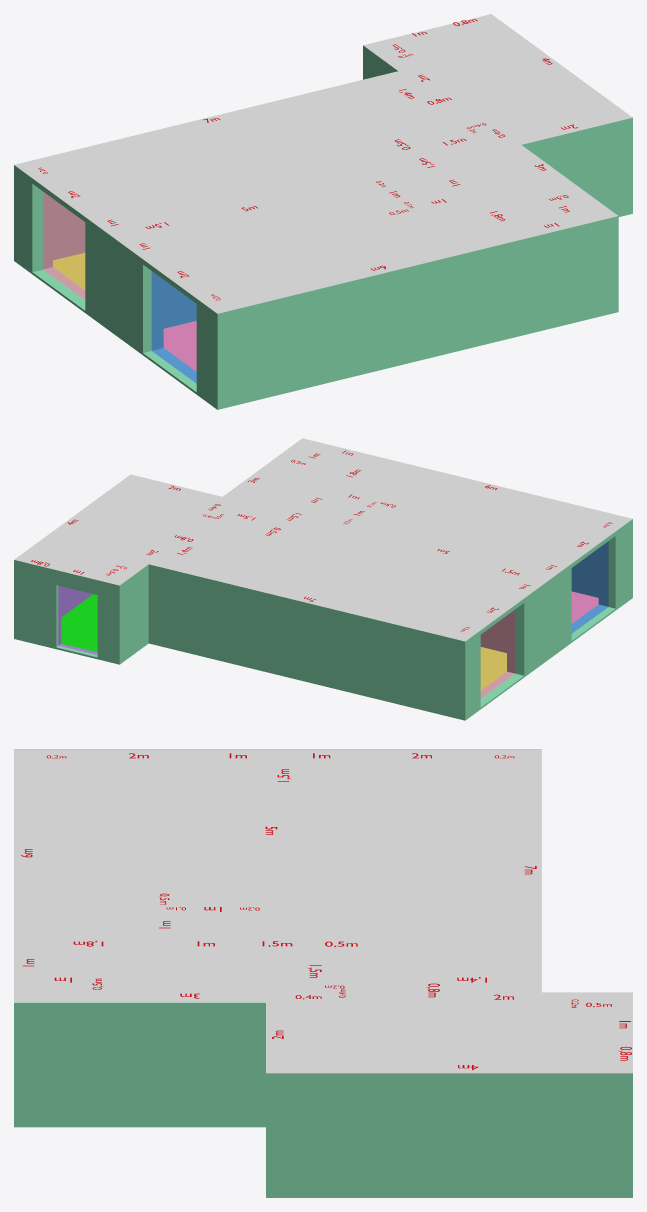
The model's file is квартира3.fbx.
3 views of the same model, one above another, from view 1: azimuth 30°, elevation 25°; view 2: azimuth 150°, elevation 25°; view 3: azimuth 270°, elevation 25° (orthographic). The views are drawn at different scales.
Parts seen in each view (by area): view 1: Roof, walls, ЗалОбои, СпальняОбои, СпальняПол, ЗалПол; view 2: Roof, walls, СпальняОбои, ПрихожаяПол, ЗалОбои, ЗалПол, ПрихожаяОбои, СпальняПол; view 3: Roof, walls.
Boxes of the visible parts, bbox=[...] form: Roof: bbox=[14, 14, 632, 313]; walls: bbox=[14, 45, 632, 409]; ЗалОбои: bbox=[43, 192, 85, 299]; СпальняОбои: bbox=[151, 271, 196, 383]; СпальняПол: bbox=[163, 321, 196, 371]; ЗалПол: bbox=[53, 252, 85, 290]; Roof: bbox=[14, 438, 632, 641]; walls: bbox=[14, 519, 632, 720]; СпальняОбои: bbox=[571, 541, 608, 633]; ПрихожаяПол: bbox=[61, 594, 97, 652]; ЗалОбои: bbox=[480, 609, 515, 698]; ЗалПол: bbox=[480, 647, 506, 690]; ПрихожаяОбои: bbox=[58, 585, 97, 654]; СпальняПол: bbox=[571, 591, 598, 623]; Roof: bbox=[14, 749, 632, 1073]; walls: bbox=[14, 749, 632, 1197].
Size of the model in its own units: 2234 by 404 by 1802.
